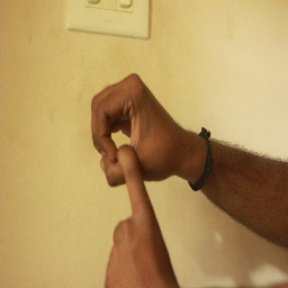Q: (85, 70, 195, 288)
